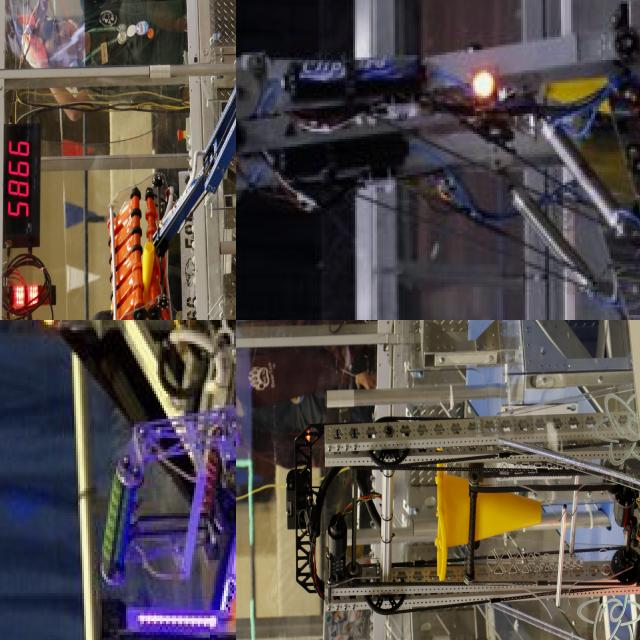FRC-Robots: (236, 0, 640, 320), (308, 320, 640, 640), (78, 320, 236, 640), (105, 0, 236, 320), (73, 320, 236, 460)
